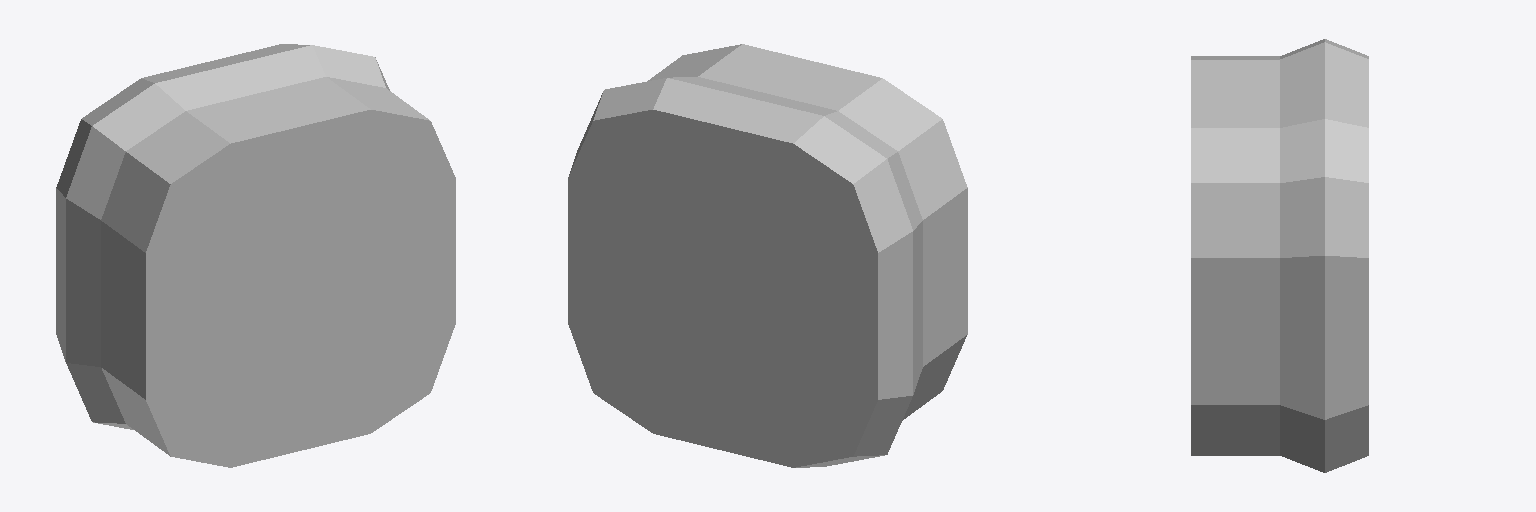
Rendered from block-snow-low.obj.
3 views of the same model, side by side, from view 1: azimuth 30°, elevation 25°; view 2: azimuth 150°, elevation 25°; view 3: azimuth 270°, elevation 25° (orthographic).
Parts seen in each view (by area): view 1: block-snow-low; view 2: block-snow-low; view 3: block-snow-low.
Part boxes in pixels (x1,y1,x2,y2): block-snow-low: (56,44,455,467); block-snow-low: (568,44,967,467); block-snow-low: (1191,39,1368,472).
Size of the model in its own units: 1.08 by 1.08 by 0.5.